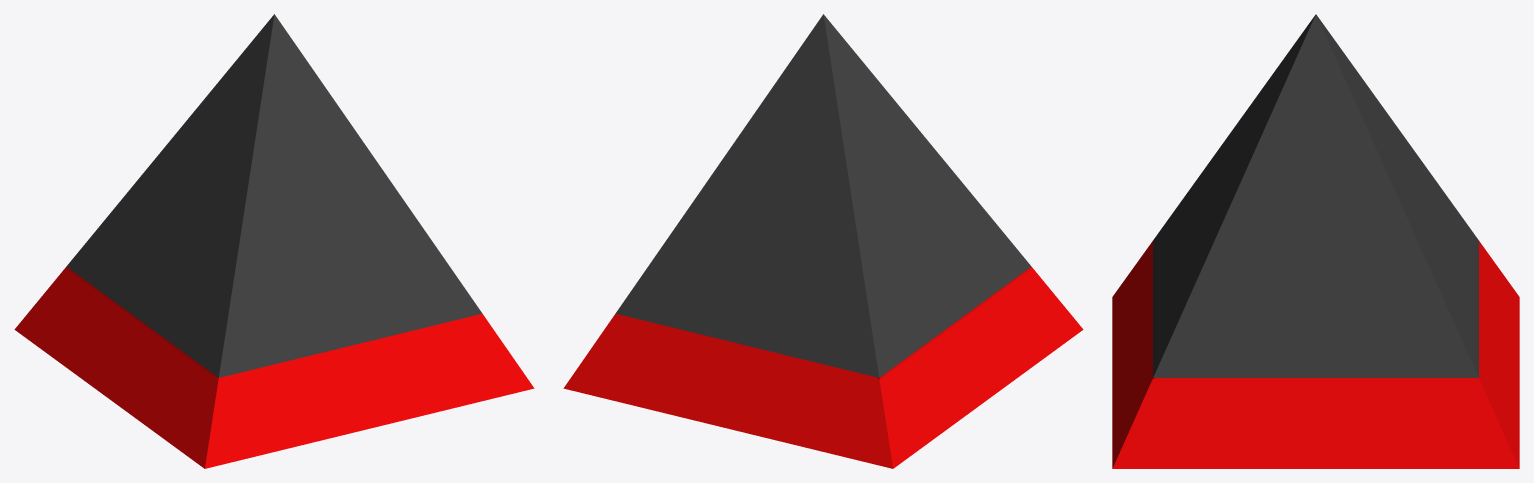
File: Spike.fbx
The picture shows the model from 3 angles, left to right: view 1: azimuth 30°, elevation 25°; view 2: azimuth 150°, elevation 25°; view 3: azimuth 270°, elevation 25°; orthographic projection. The views are drawn at different scales.
Visible parts, largest first — view 1: Spike; view 2: Spike; view 3: Spike.
Boxes of the visible parts, left/top/right/bottom form: Spike: left=14, top=14, right=534, bottom=468; Spike: left=563, top=14, right=1083, bottom=468; Spike: left=1112, top=14, right=1519, bottom=468.
Bounding box in the file's own units: 100 × 100 × 100.
